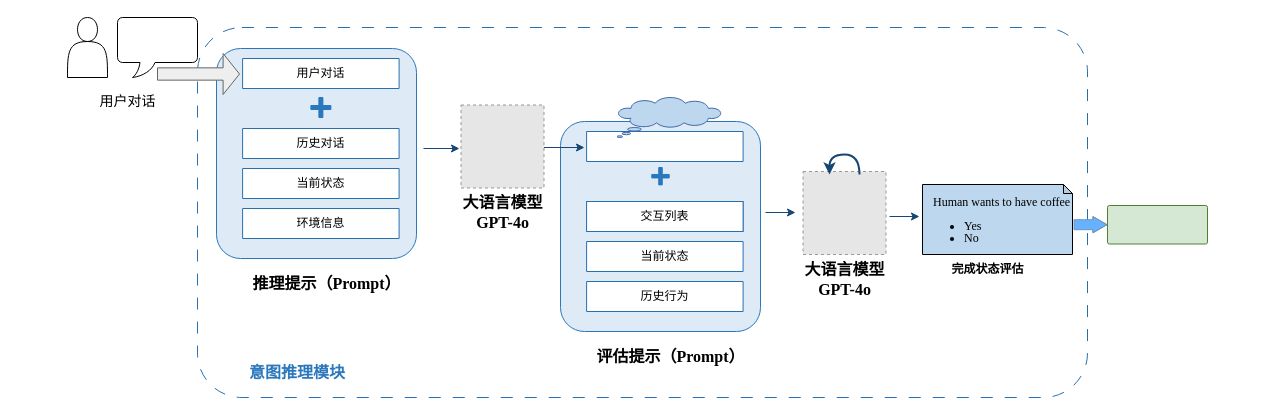
Some shapes in this 1274 by 415 pixel diagram are drawn without their labels. Grey dashed boxes stand in for pictures. Each missing label, with the box of its shape:
Human wants to have a coffee: (616, 96, 721, 138)
I'm sleepy: (116, 16, 198, 78)
意图推理: (586, 130, 743, 162)
目标预测模块: (1106, 204, 1208, 244)
